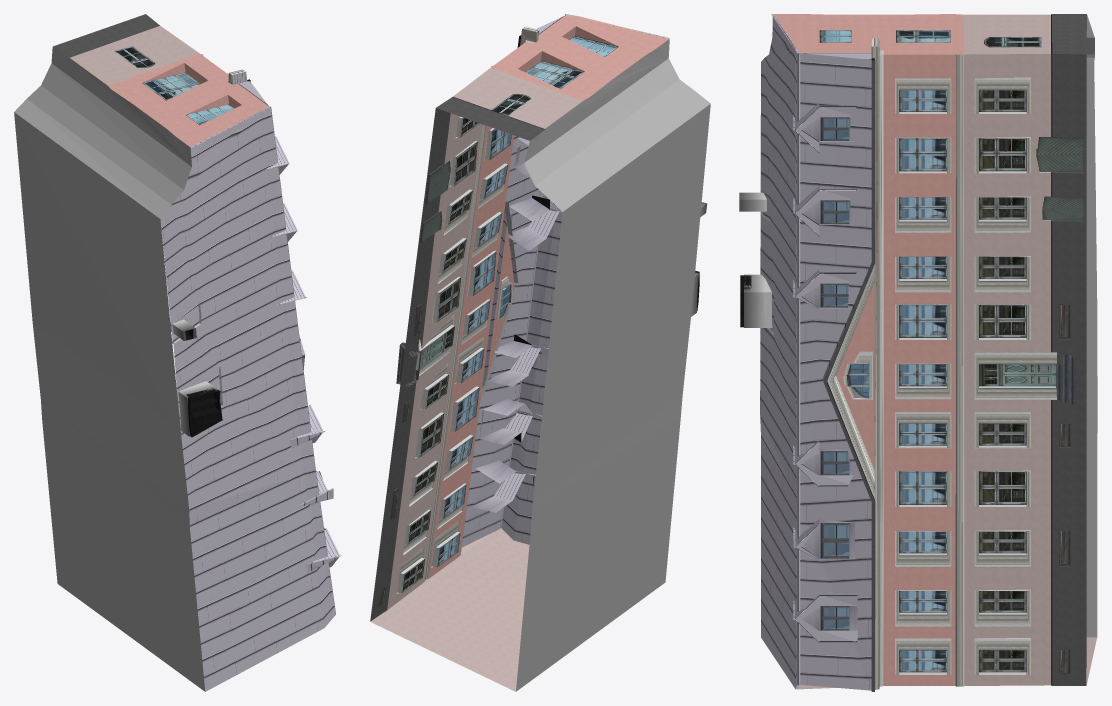
The model's file is Vaike-Kloostri_3-origo.obj.
The picture shows the model from 3 angles, left to right: view 1: azimuth 30°, elevation 25°; view 2: azimuth 150°, elevation 25°; view 3: azimuth 270°, elevation 25°; orthographic projection. The views are drawn at different scales.
Visible parts, largest first — view 1: Vaike_Kloostri_3; view 2: Vaike_Kloostri_3; view 3: Vaike_Kloostri_3.
Part boxes in pixels (x1,y1,x2,y2): Vaike_Kloostri_3: (14,14,341,691); Vaike_Kloostri_3: (370,14,710,691); Vaike_Kloostri_3: (739,14,1097,691).
Size of the model in its own units: 10.81 by 28.5 by 14.44.
